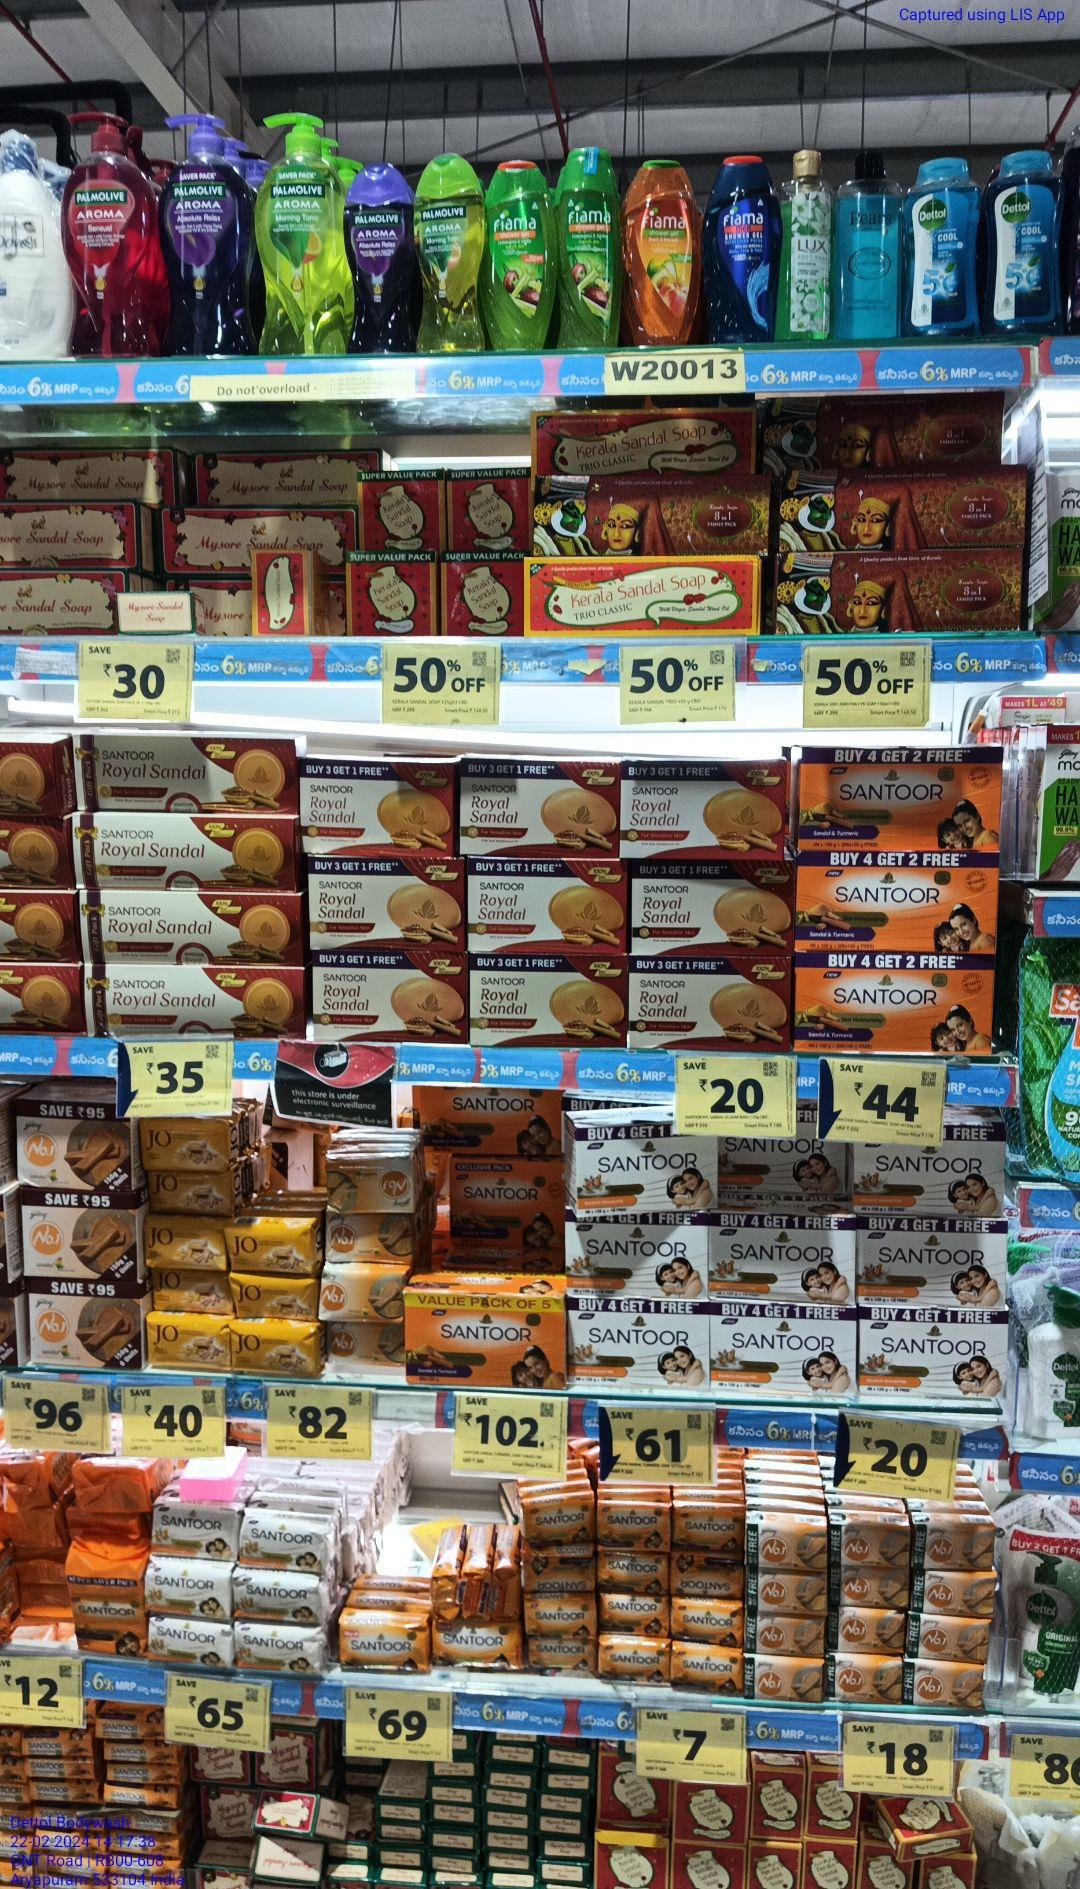Dettol_Bodywash_Cool: (989, 141, 1066, 330), (907, 156, 979, 340)
Fiama_Shower_Gel_Lemongrass_and_Jojoba_250ML: (482, 156, 549, 350)
Fiama_Shower_Gel_Peach_and_Avocado_250ML: (624, 160, 694, 344)
Lux_Body_Wash_Skin_Detox_Freesia_Scent_and_Alove_Vera_245ML: (783, 145, 839, 341)
Palmolive_Aroma_Morning_Tonic_Shower_Gel_250ML: (414, 154, 482, 353)
Palmolive_Aroma_Relax_250ML: (345, 163, 413, 352)
